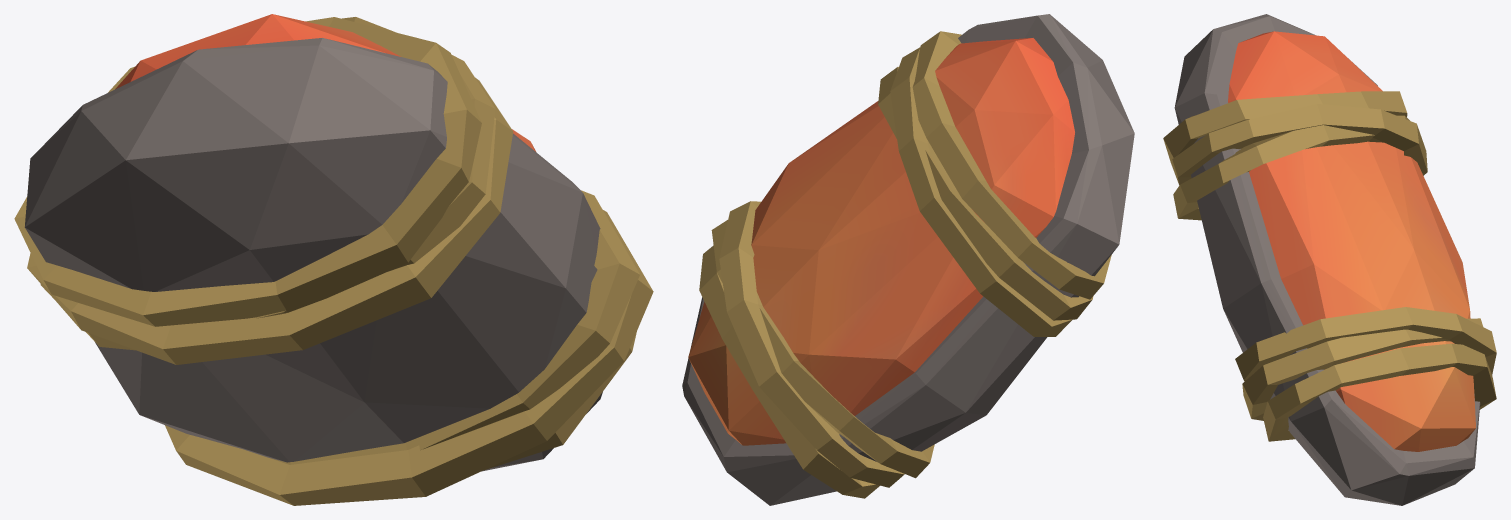
File: trinketFocusStone1.fbx
The picture shows the model from 3 angles, left to right: view 1: azimuth 30°, elevation 25°; view 2: azimuth 150°, elevation 25°; view 3: azimuth 270°, elevation 25°; orthographic projection. The views are drawn at different scales.
Visible parts, largest first — view 1: trinketFocusStone1; view 2: trinketFocusStone1; view 3: trinketFocusStone1.
Boxes of the visible parts, x1,y1,x2,y2 form: trinketFocusStone1: [14, 14, 653, 505]; trinketFocusStone1: [682, 14, 1134, 505]; trinketFocusStone1: [1163, 14, 1496, 505].
Size of the model in its own units: 1.53 by 1.5 by 1.16.
